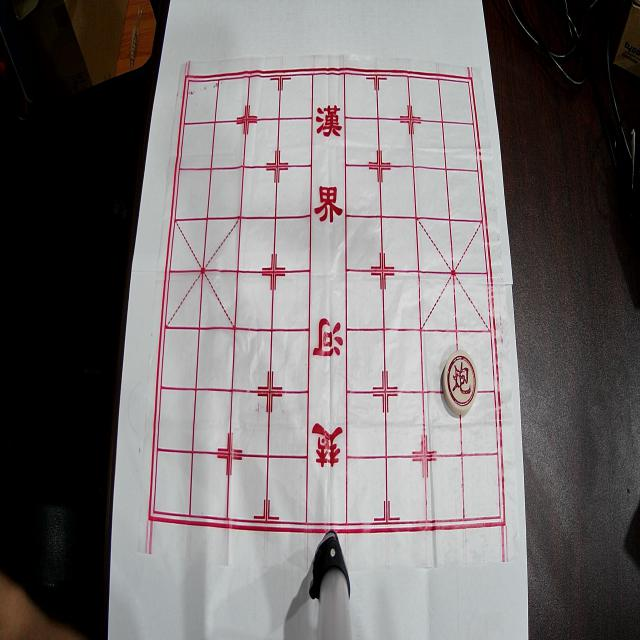red-cannon: (442, 351, 478, 414)
